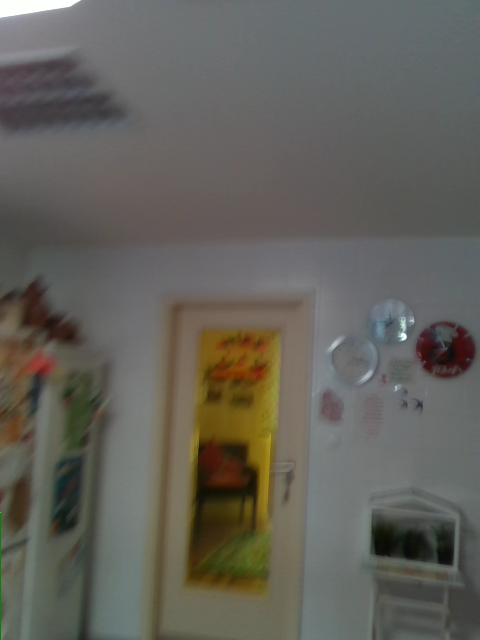closed: (145, 291, 318, 639)
